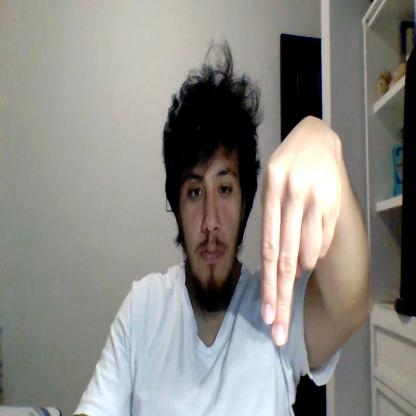N: (260, 115, 342, 346)
